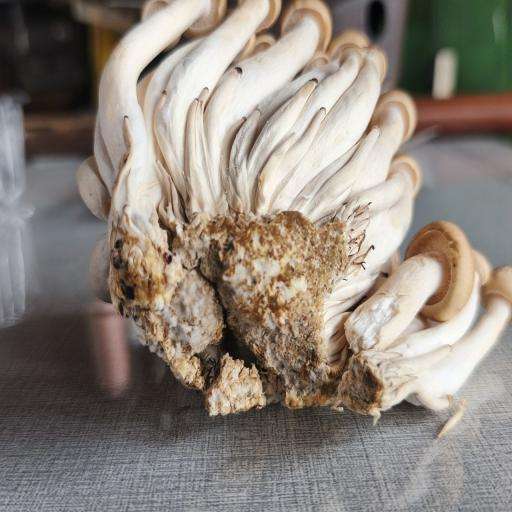Enoki Mushroom: (69, 0, 512, 433)
